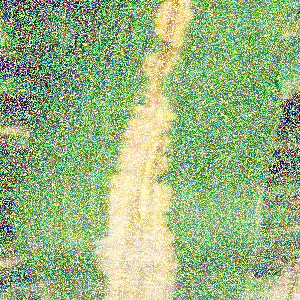Leaf_Blast: (57, 3, 268, 300)
